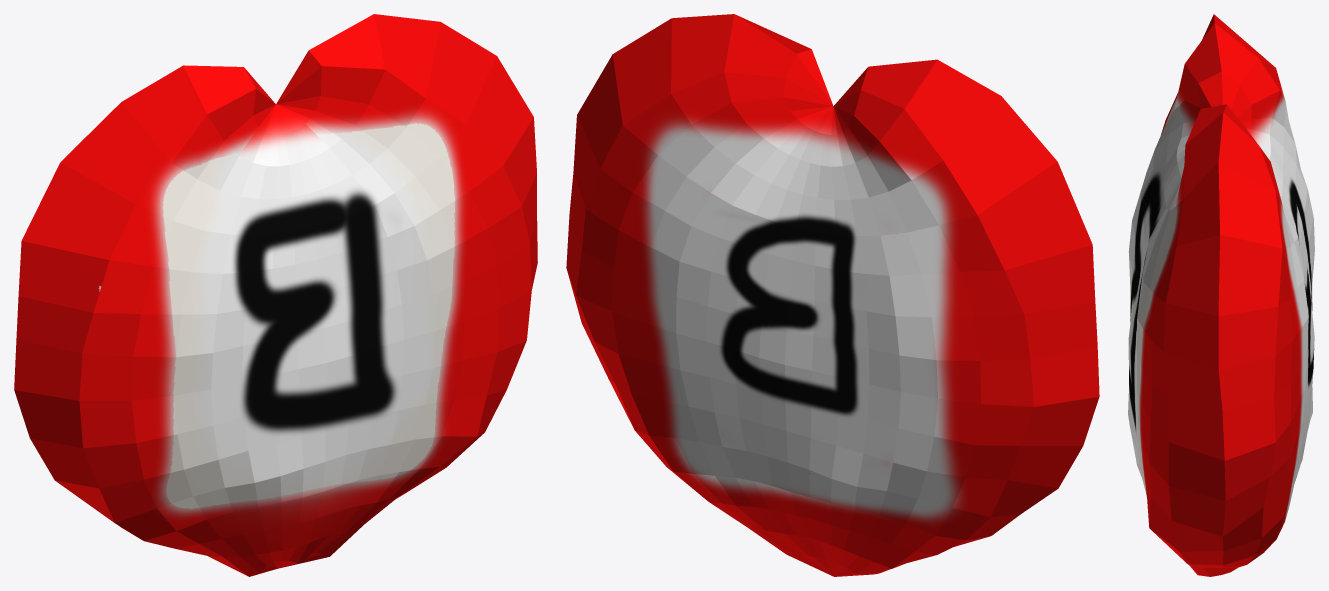
Rendered from item.obj.
3 renders of one model, left to right at view 1: azimuth 30°, elevation 25°; view 2: azimuth 150°, elevation 25°; view 3: azimuth 270°, elevation 25°, orthographic. The views are drawn at different scales.
Visible parts, largest first — view 1: 球; view 2: 球; view 3: 球.
Part boxes in pixels (x1,y1,x2,y2): 球: (14,14,537,576); 球: (566,14,1099,576); 球: (1128,14,1314,576).
Size of the model in its own units: 2.6 by 2.52 by 0.8519.
1 material, 1 textured.
